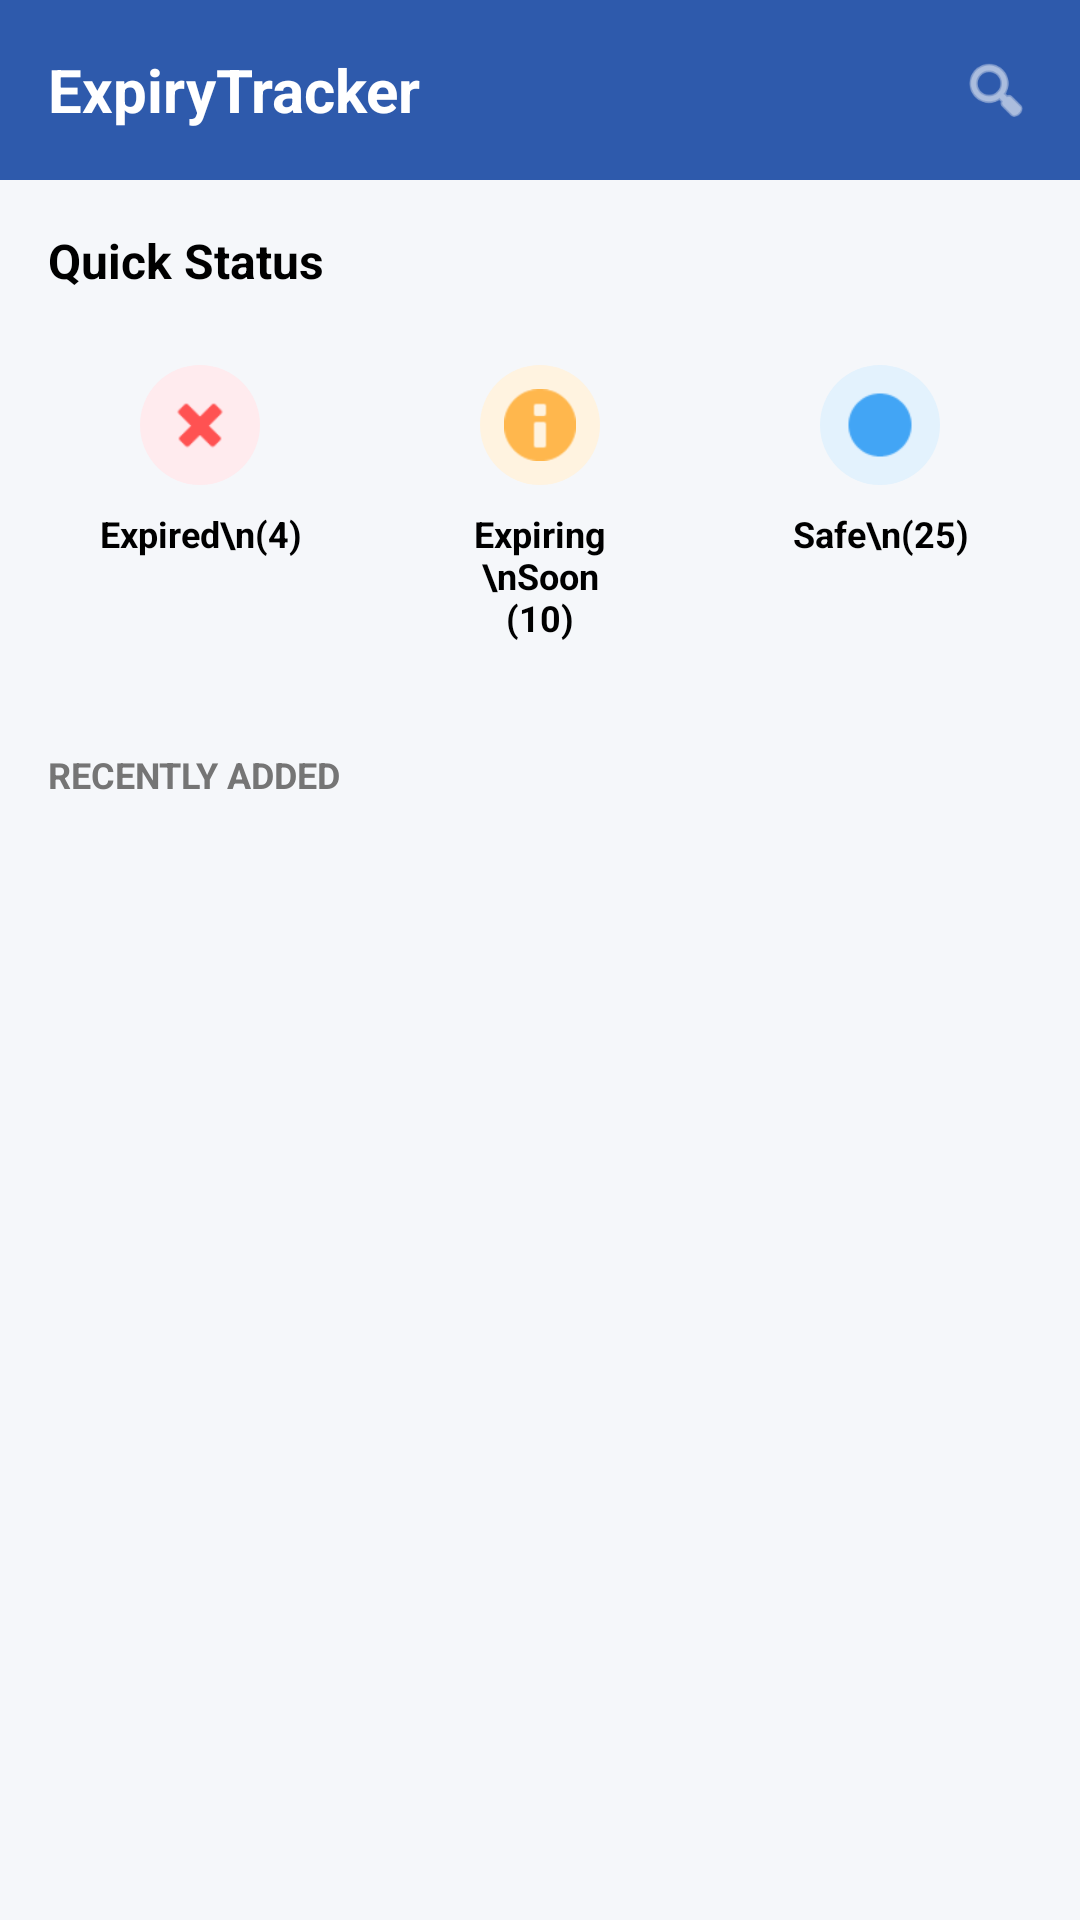

Named icons in this screenshot (1080*1920) and their bounding boxes, (x1, y1, x2, y2):
delete: (177, 403, 223, 448)
info: (480, 365, 600, 485)
search: (969, 64, 1023, 117)
